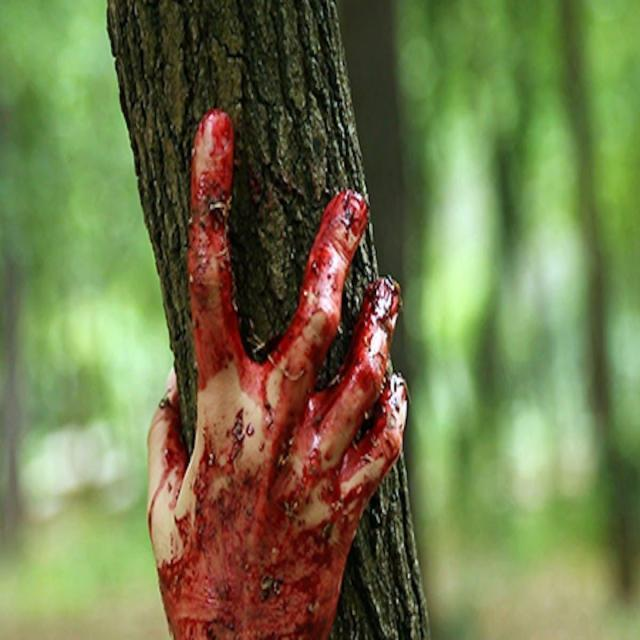flood: (144, 102, 418, 640)
